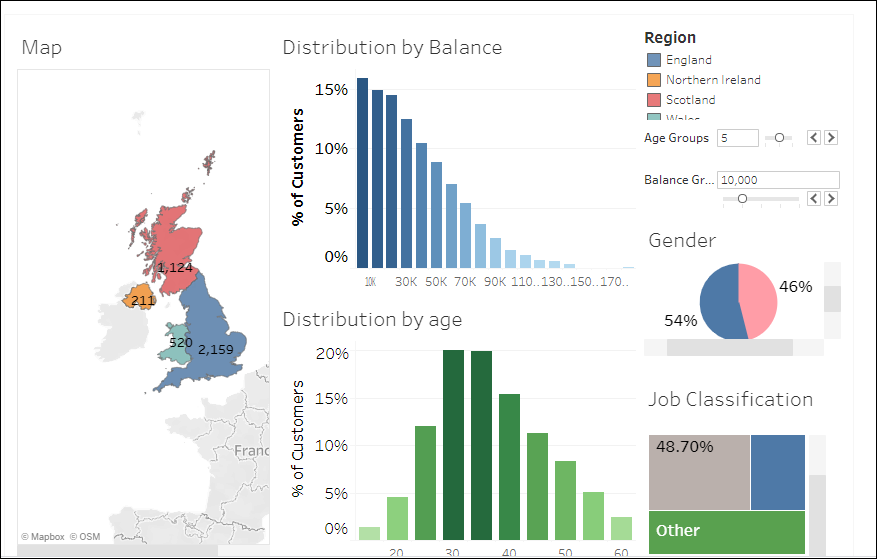

What the dashboard file says about the page in this screenshot:
{"tool":"tableau","page":{"name":"Dashboard 1","canvas":[1000,1000],"units":"permille","ordinal":0},"visuals":[{"type":"worksheet","box":[0,0,1000,1000]},{"type":"worksheet","param":"vert","box":[9.4,13.5,981.2,973]},{"type":"worksheet","param":"horz","box":[9.4,13.5,981.2,973]},{"type":"worksheet","param":"vert","box":[9.4,13.5,740,973]},{"type":"worksheet","box":[9.4,13.5,740,973]},{"type":"worksheet","title":"Map","mark":"Multipolygon","box":[9.4,13.5,308,973]},{"type":"worksheet","title":"Distribution by Balance","mark":"Automatic","rows":["P1-UK-Bank-Customers.csv_ED4362273DDF4033987E9BD2FA0EE184"],"cols":["Balance (bin)"],"box":[317.4,13.5,432,486.5]},{"type":"worksheet","box":[749.4,13.5,241.2,973]},{"type":"worksheet","param":"vert","box":[749.4,13.5,241.2,345.7]},{"type":"worksheet","title":"Map","mark":"Multipolygon","param":"[federated.03665fm1gdhy6y1bic8az1gn716s].[none:Region:nk]","box":[749.4,13.5,241.2,178.8]},{"type":"worksheet","param":"[Parameters].[Parameter 2]","box":[749.4,192.2,241.2,70.8]},{"type":"worksheet","param":"[Parameters].[Parameter 1]","box":[749.4,263.1,241.2,82.6]},{"type":"worksheet","title":"Gender","mark":"Pie","box":[749.4,359.2,241.2,259.7]},{"type":"worksheet","title":"Distribution by age","mark":"Bar","rows":["P1-UK-Bank-Customers.csv_ED4362273DDF4033987E9BD2FA0EE184"],"cols":["Age (bin)"],"box":[317.4,500,432,486.5]},{"type":"worksheet","box":[749.4,618.9,241.2,367.6]},{"type":"worksheet","param":"vert","box":[749.4,618.9,241.2,367.6]},{"type":"worksheet","title":"Job Classification","mark":"Automatic","box":[749.4,618.9,241.2,340.6]}]}

Visuals, with their boxes on the dashboard's canvas, which has no fixed pixel size, in thousandths of its width and height (x1, y1, x2, y2). These are canvas units, not pixel positions in the 877x559 screenshot, which may show the page scaled, cropped or inside an application window:
worksheet: x1=0 y1=0 x2=1000 y2=1000
worksheet: x1=9 y1=14 x2=991 y2=986
worksheet: x1=9 y1=14 x2=991 y2=986
worksheet: x1=9 y1=14 x2=749 y2=986
worksheet: x1=9 y1=14 x2=749 y2=986
"Map" worksheet (Multipolygon marks): x1=9 y1=14 x2=317 y2=986
"Distribution by Balance" worksheet: x1=317 y1=14 x2=749 y2=500
worksheet: x1=749 y1=14 x2=991 y2=986
worksheet: x1=749 y1=14 x2=991 y2=359
"Map" worksheet (Multipolygon marks): x1=749 y1=14 x2=991 y2=192
worksheet: x1=749 y1=192 x2=991 y2=263
worksheet: x1=749 y1=263 x2=991 y2=346
"Gender" worksheet (Pie marks): x1=749 y1=359 x2=991 y2=619
"Distribution by age" worksheet (Bar marks): x1=317 y1=500 x2=749 y2=986
worksheet: x1=749 y1=619 x2=991 y2=986
worksheet: x1=749 y1=619 x2=991 y2=986
"Job Classification" worksheet: x1=749 y1=619 x2=991 y2=960
